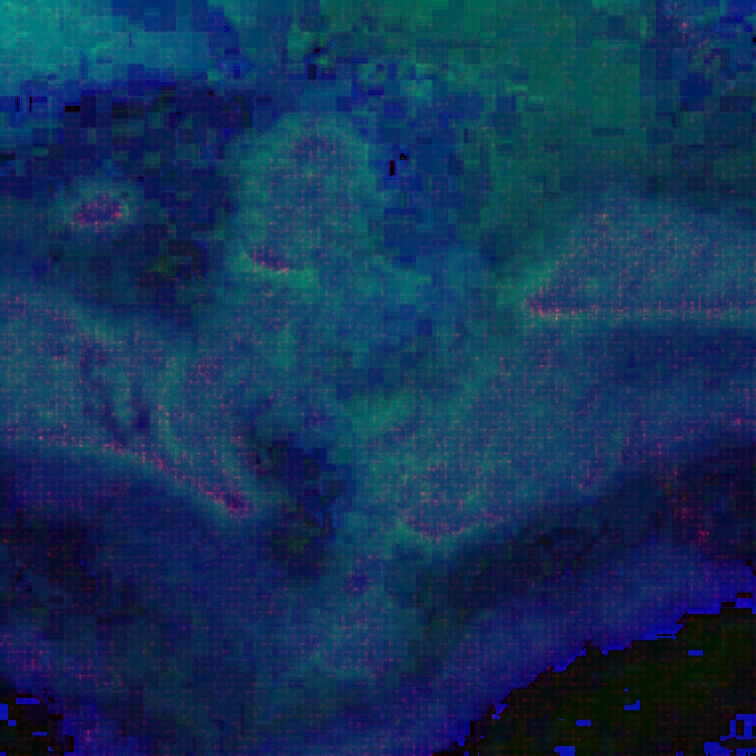rip_current: (250, 149, 556, 633)
